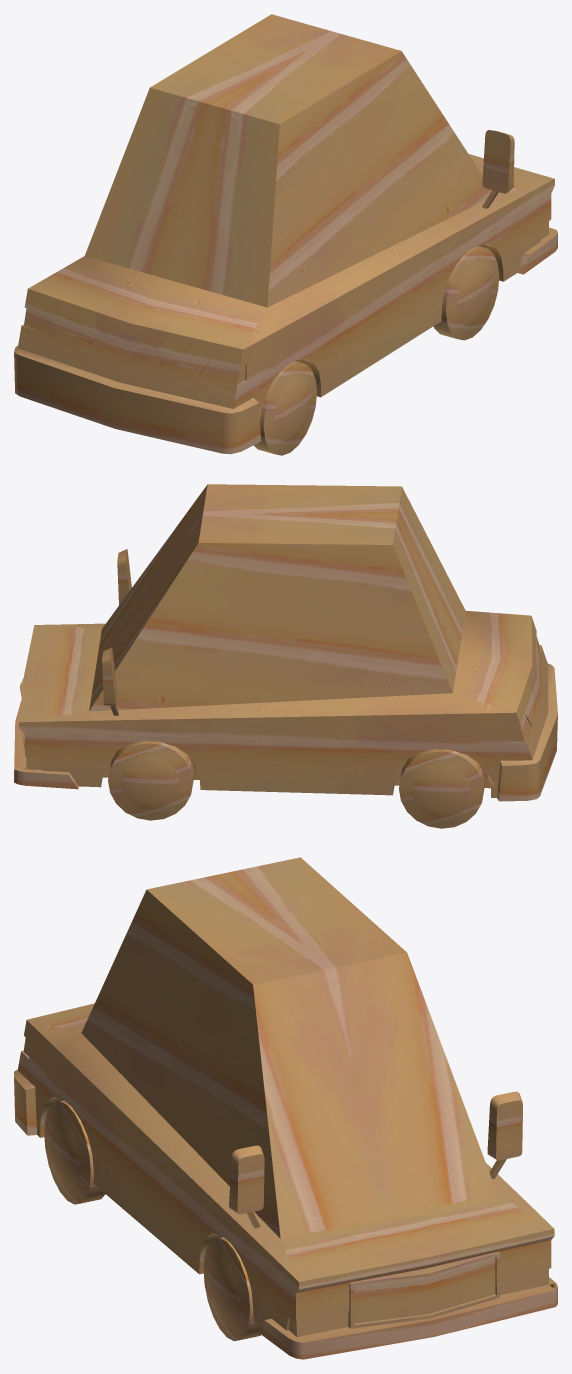
Rendered from car.fbx.
3 views of the same model, one above another, from view 1: azimuth 30°, elevation 25°; view 2: azimuth 150°, elevation 25°; view 3: azimuth 270°, elevation 25° (orthographic). The views are drawn at different scales.
Parts seen in each view (by area): view 1: car; view 2: car; view 3: car.
Boxes of the visible parts, <box> form: car: <box>14,14,557,455</box>; car: <box>14,484,557,828</box>; car: <box>14,857,557,1359</box>.
Size of the model in its own units: 0.3111 by 0.1578 by 0.2394.
1 material, 1 textured.
